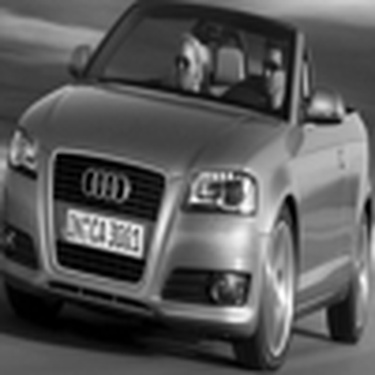car: (2, 2, 371, 371)
